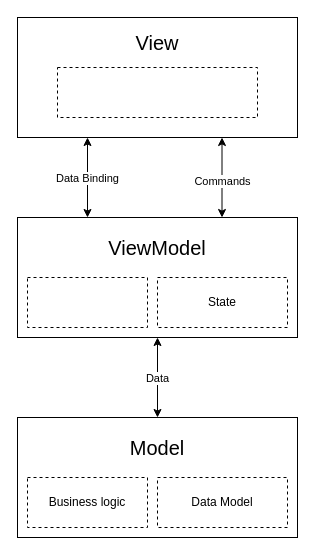
Some shapes in this 315 by 555 pixel diagram are drawn without their labels. The shapes that lost their labels are listed below. From the top down, each one's box as (x1, y1, x2, y2) in pixels, then its label:
(56, 66, 258, 118): User Interface
(26, 276, 148, 328): Presentation Logic
